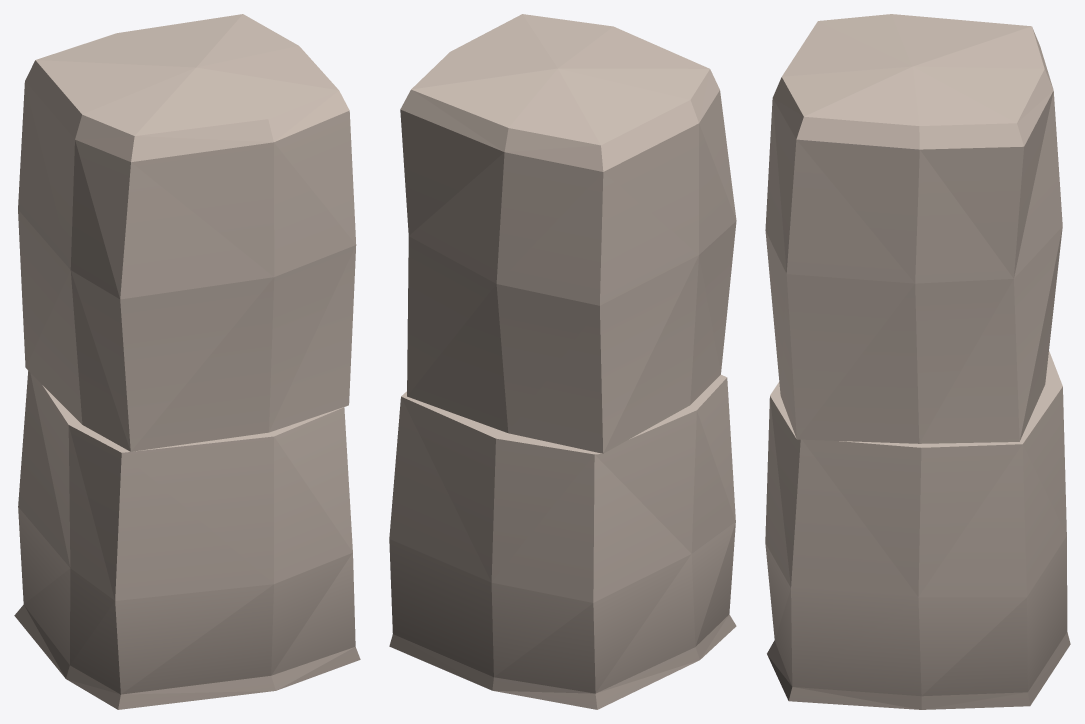
File: RockZ_City_Pillar_B.fbx
The picture shows the model from 3 angles, left to right: view 1: azimuth 30°, elevation 25°; view 2: azimuth 150°, elevation 25°; view 3: azimuth 270°, elevation 25°; orthographic projection. The views are drawn at different scales.
Visible parts, largest first — view 1: RockZ_City_Pillar_B; view 2: RockZ_City_Pillar_B; view 3: RockZ_City_Pillar_B.
Part boxes in pixels (bbox=[...]): RockZ_City_Pillar_B: bbox=[14, 14, 360, 709]; RockZ_City_Pillar_B: bbox=[389, 14, 736, 709]; RockZ_City_Pillar_B: bbox=[765, 14, 1070, 709].
Bounding box in the file's own units: 2.6 × 5.5 × 2.61.
